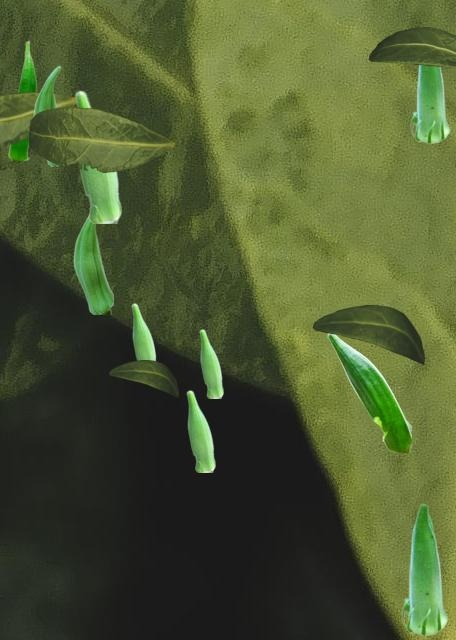okra: (327, 334, 410, 451), (74, 90, 120, 222), (401, 503, 447, 635), (73, 216, 112, 313), (8, 40, 36, 159), (410, 66, 449, 143), (33, 65, 61, 165), (186, 390, 214, 471), (199, 329, 222, 397), (131, 303, 156, 359)
